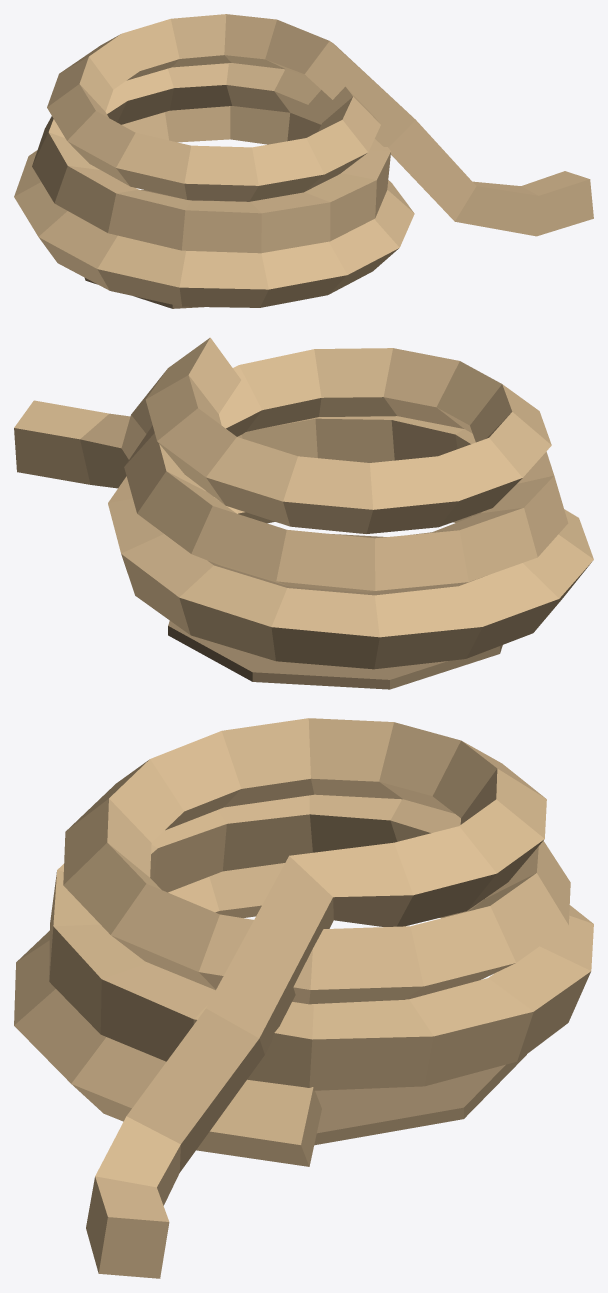
Rendered from ropeCoil.glb.
3 views of the same model, one above another, from view 1: azimuth 30°, elevation 25°; view 2: azimuth 150°, elevation 25°; view 3: azimuth 270°, elevation 25° (orthographic). The views are drawn at different scales.
Parts seen in each view (by area): view 1: ropeCoil-m; view 2: ropeCoil-m; view 3: ropeCoil-m.
Part boxes in pixels (x1,y1,x2,y2): ropeCoil-m: (14,14,593,308); ropeCoil-m: (14,337,593,689); ropeCoil-m: (14,718,593,1278).
Bounding box in the file's own units: 1.33 × 0.4902 × 0.915.
